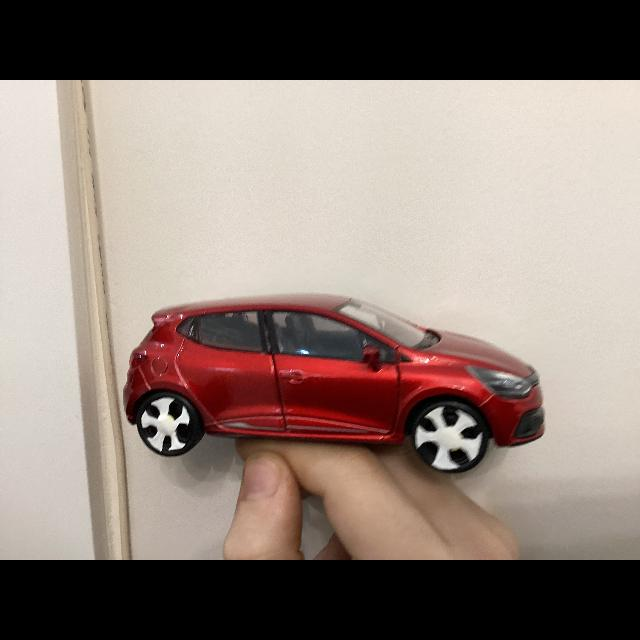Yanlis_Jant: (414, 404, 484, 470), (141, 396, 193, 454)
